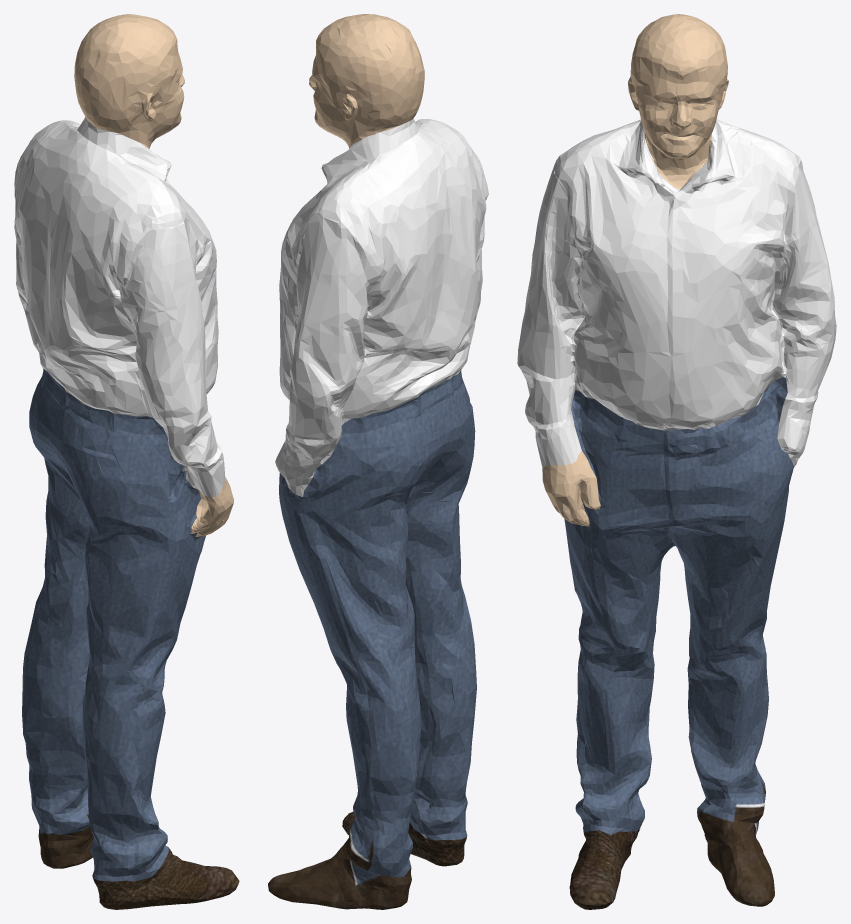
Rendered from human.dae.
The picture shows the model from 3 angles, left to right: view 1: azimuth 30°, elevation 25°; view 2: azimuth 150°, elevation 25°; view 3: azimuth 270°, elevation 25°; orthographic projection.
Visible parts, largest first — view 1: Human; view 2: Human; view 3: Human.
Part boxes in pixels (x1=…): Human: x1=14, y1=14, x2=239, y2=909; Human: x1=268, y1=14, x2=488, y2=909; Human: x1=517, y1=14, x2=836, y2=909.
Bounding box in the file's own units: 0.3501 × 0.5777 × 1.72.
Materials: 1 (1 with a texture image).
